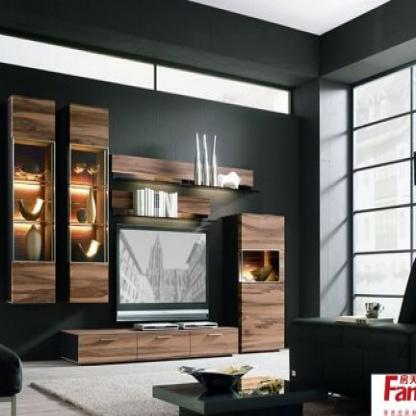Cupboard: (6, 95, 112, 304)
